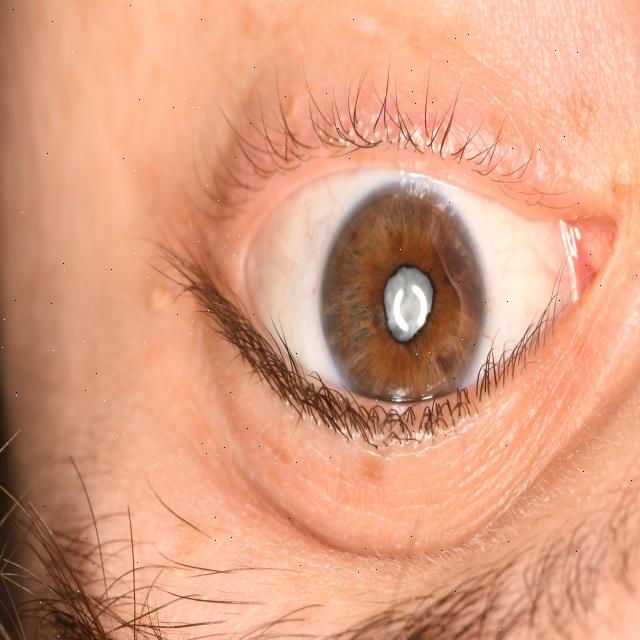Cataract: (317, 172, 485, 422)
